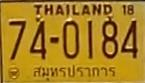0: (62, 20, 79, 58)
1: (87, 20, 92, 59)
4: (120, 19, 137, 58), (29, 20, 45, 58)
7: (8, 20, 25, 59)
8: (101, 19, 117, 58)
SPK: (32, 63, 115, 82)
